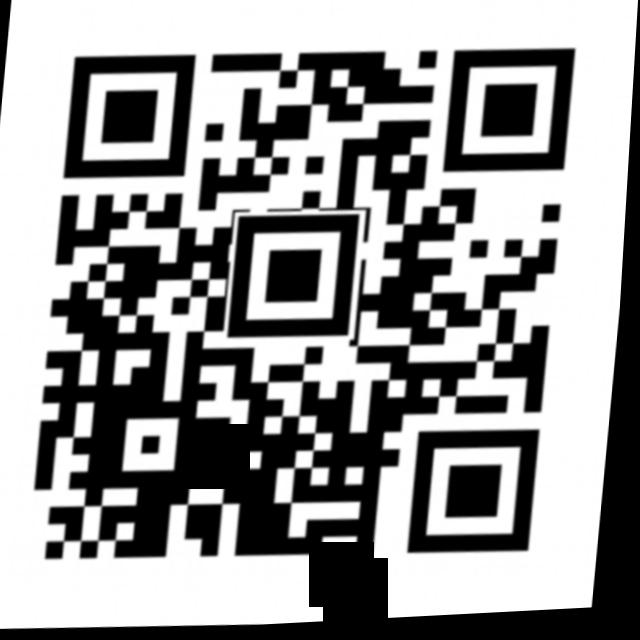QR_CODE: (16, 20, 599, 600)
